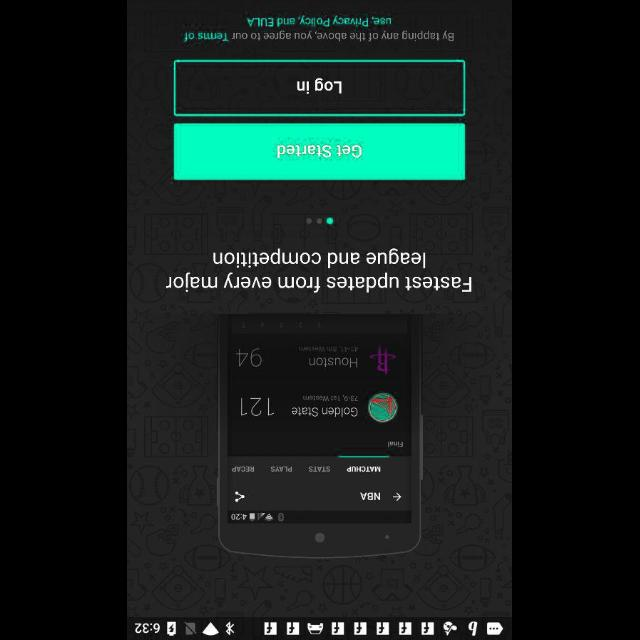backgroundimage: (128, 0, 512, 616)
image: (218, 315, 424, 559)
pageindicator: (306, 217, 336, 226)
text: (165, 247, 472, 293), (186, 15, 454, 43)
textbutton: (174, 124, 466, 180), (174, 60, 466, 116)
uppertaskbar: (128, 617, 512, 639)
